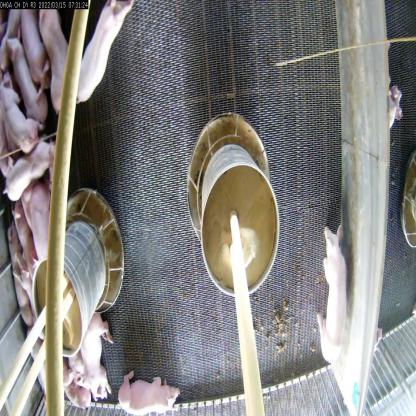Pig: (68, 1, 138, 112), (309, 212, 354, 366), (36, 9, 73, 110), (120, 362, 186, 415), (10, 36, 49, 124), (4, 138, 54, 204), (18, 0, 49, 93), (2, 88, 42, 154)
